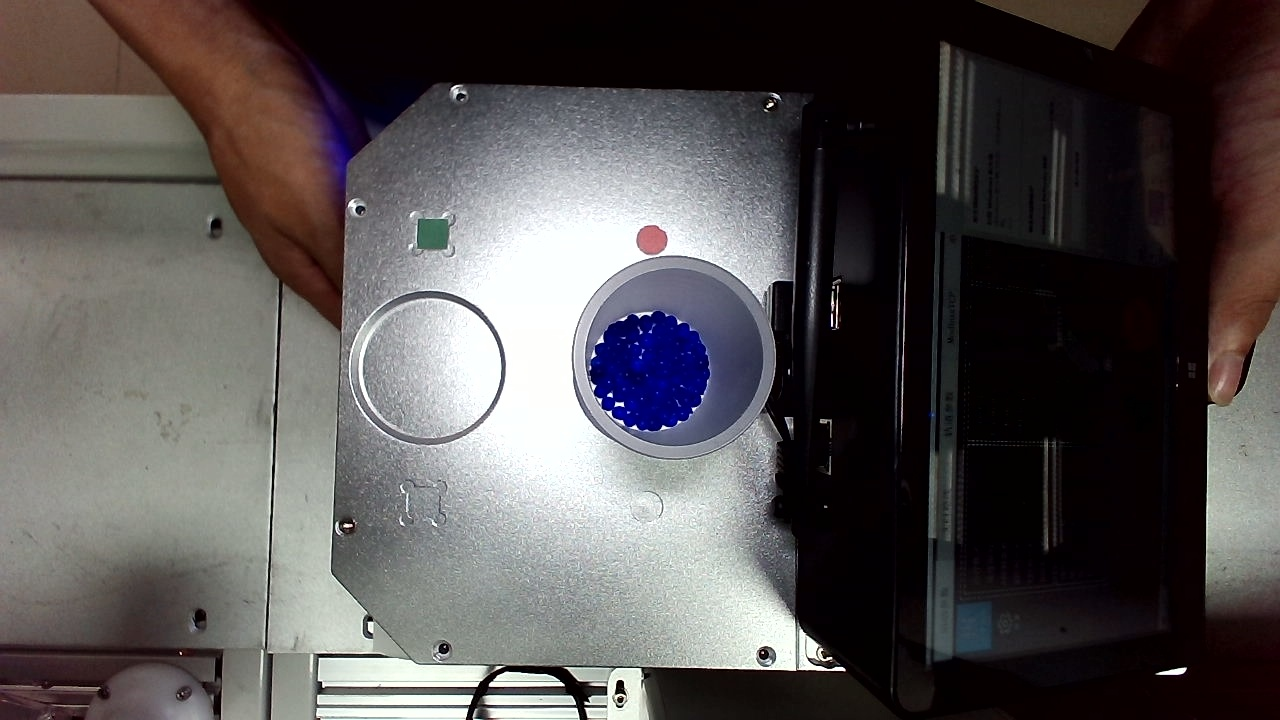bad: (839, 383, 890, 431), (256, 606, 304, 655), (784, 15, 829, 62), (266, 9, 310, 55), (815, 92, 859, 135), (261, 163, 304, 204), (747, 631, 788, 672), (765, 588, 806, 629), (748, 423, 790, 463), (813, 550, 852, 593), (570, 525, 608, 566), (832, 52, 873, 89), (362, 33, 401, 71), (442, 524, 481, 561), (397, 166, 436, 201), (265, 320, 302, 356), (801, 352, 837, 389), (806, 387, 841, 423), (802, 53, 835, 91), (404, 53, 438, 88)
defact: (687, 143, 727, 181)
pass: (578, 144, 621, 195), (658, 413, 700, 464), (386, 479, 431, 523), (444, 187, 488, 229), (288, 566, 330, 609), (610, 199, 652, 242), (837, 466, 878, 509), (545, 371, 585, 415), (259, 413, 302, 453), (690, 94, 729, 138), (598, 608, 636, 652), (763, 135, 801, 178), (412, 277, 452, 317), (619, 580, 656, 623), (857, 591, 892, 632), (578, 16, 612, 54)
toolong: (748, 480, 816, 542), (315, 72, 371, 122), (782, 436, 825, 496)
unpass: (794, 201, 844, 246), (260, 525, 308, 570), (832, 1, 875, 51), (580, 559, 622, 606), (836, 344, 880, 387), (274, 53, 317, 95), (257, 291, 301, 332), (649, 348, 688, 394), (269, 201, 314, 240), (619, 137, 658, 180), (845, 421, 889, 459), (822, 638, 862, 678), (731, 580, 768, 622), (680, 550, 717, 591), (800, 614, 836, 656), (261, 378, 302, 414), (858, 639, 897, 676), (519, 54, 556, 92), (547, 34, 582, 73), (747, 89, 780, 130), (489, 41, 524, 79), (804, 420, 840, 455), (512, 22, 547, 58)
